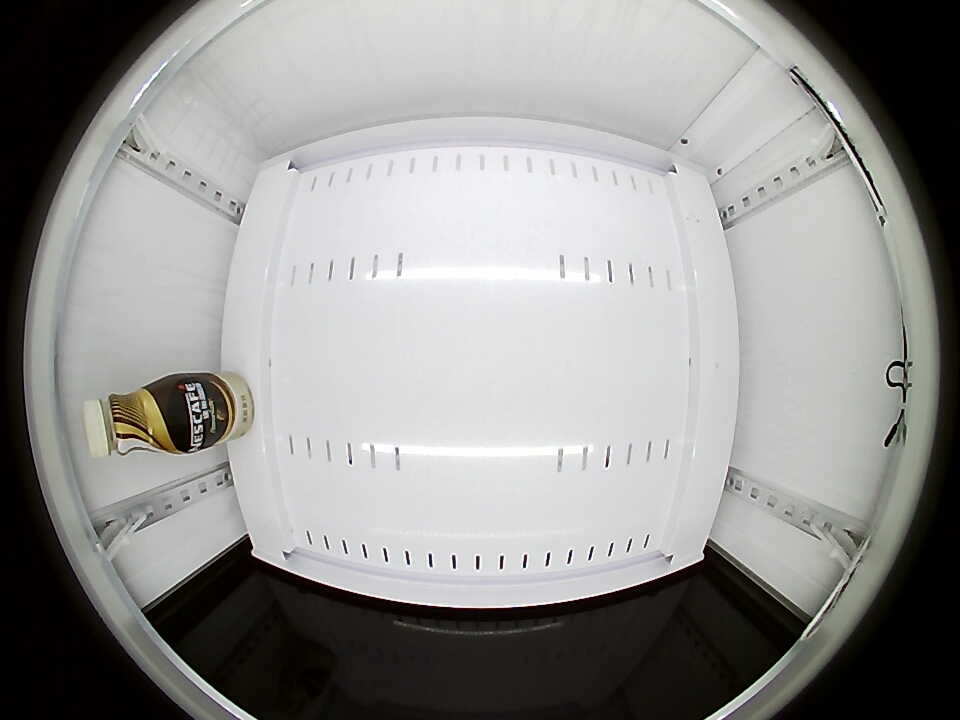kafei: (81, 379, 190, 458)
